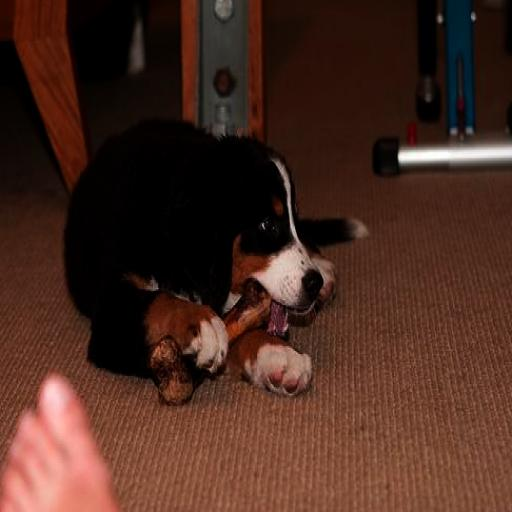dog_face: (209, 135, 334, 317)
